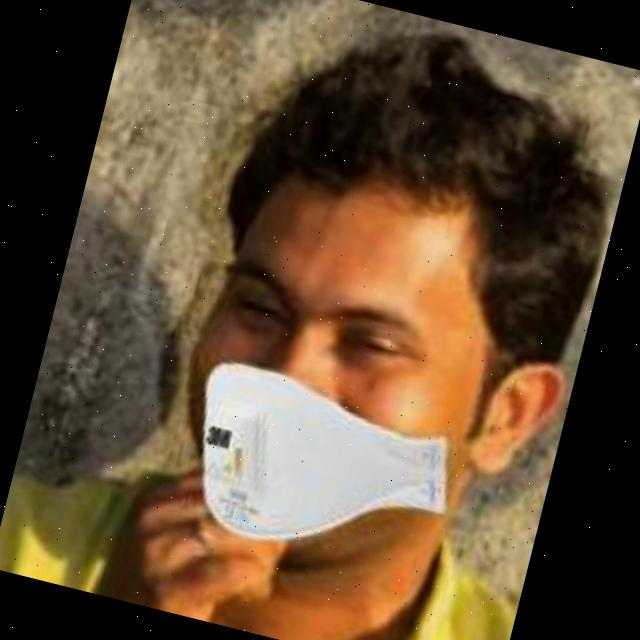suspicion: (138, 121, 602, 612)
